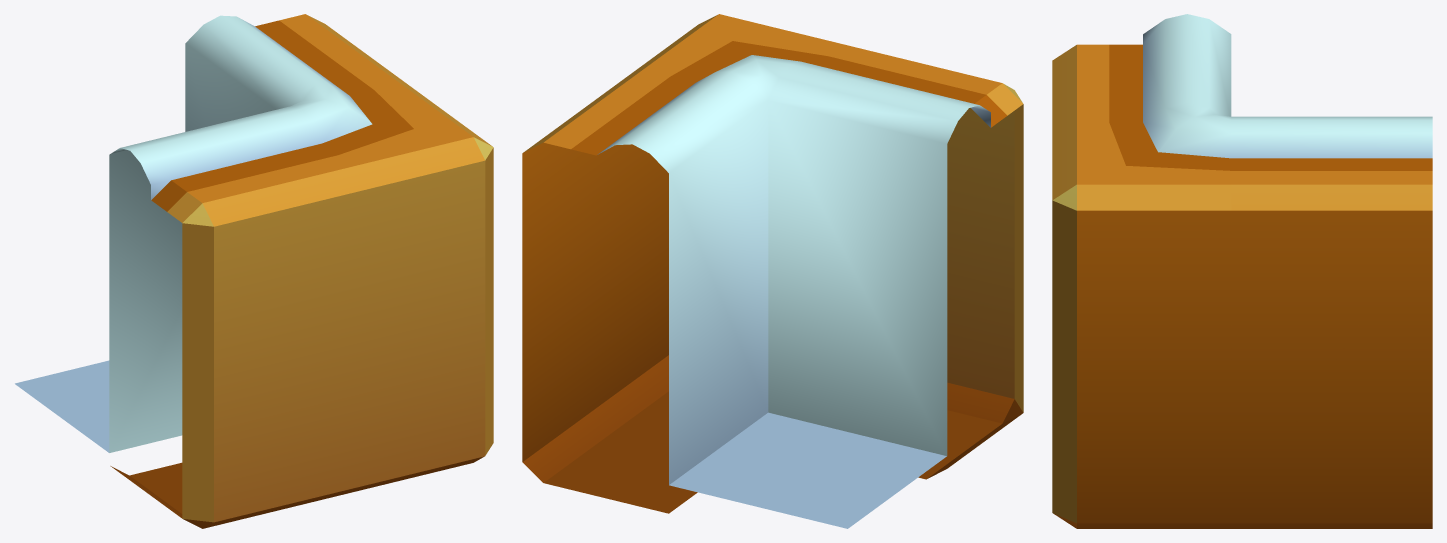
The model's file is pool_4.fbx.
The picture shows the model from 3 angles, left to right: view 1: azimuth 30°, elevation 25°; view 2: azimuth 150°, elevation 25°; view 3: azimuth 270°, elevation 25°; orthographic projection. The views are drawn at different scales.
Parts seen in each view (by area): view 1: pool_4; view 2: pool_4; view 3: pool_4.
Boxes of the visible parts, x1=… form: pool_4: x1=15, y1=14, x2=493, y2=528; pool_4: x1=522, y1=14, x2=1023, y2=528; pool_4: x1=1052, y1=14, x2=1432, y2=528.
Bounding box in the file's own units: 2 × 2.12 × 2.
